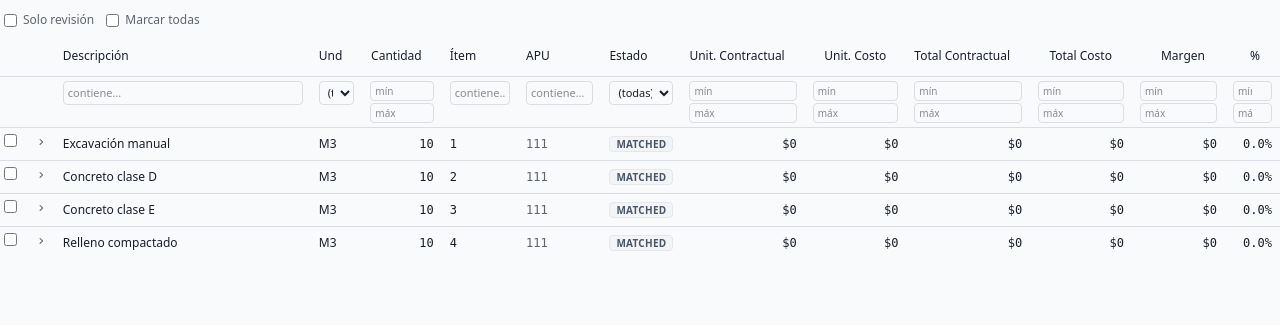
el checkbox de una fila la marca y muestra el contador
What coordinates should you click on to do the following:
click the checkbox named "Marcar ítem 2"
I would click on:
 (10, 173)
Its box is [4, 166, 17, 180].
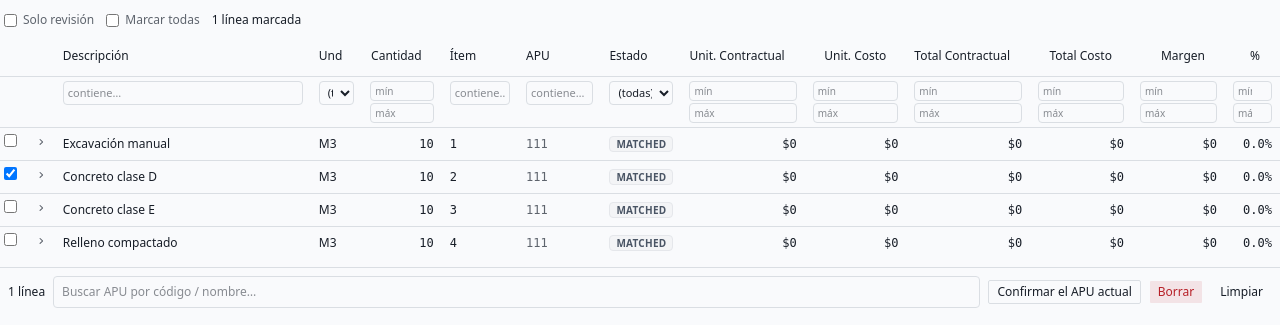
Check: the text "1 línea marcada" is shown, box [212, 12, 301, 28]
